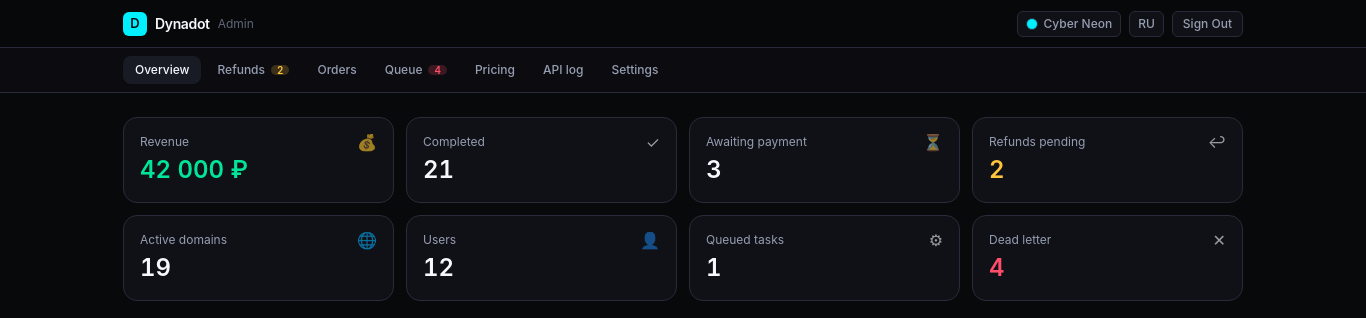
refunds › shows a clean empty state when nothing is owed
Click the button "Refunds 2" at (254, 70), box [206,56,302,84]
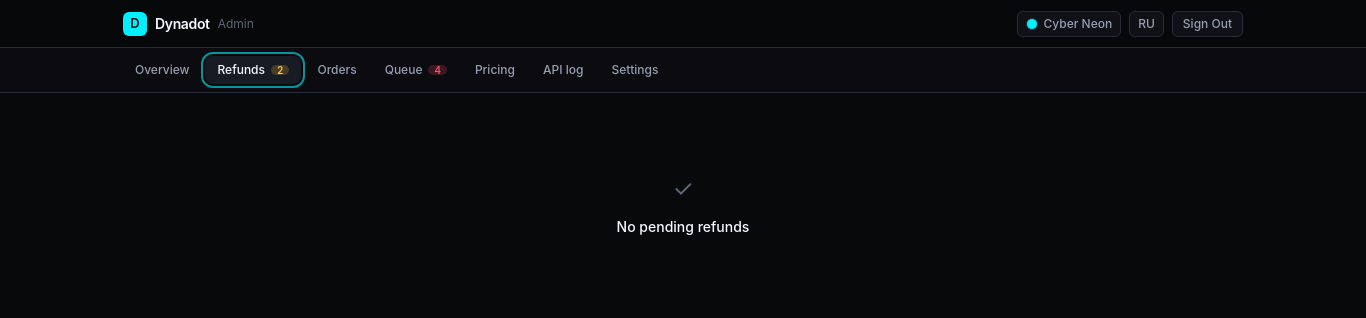
Expected: the text "No pending refunds" is shown, [617,217,749,237]
